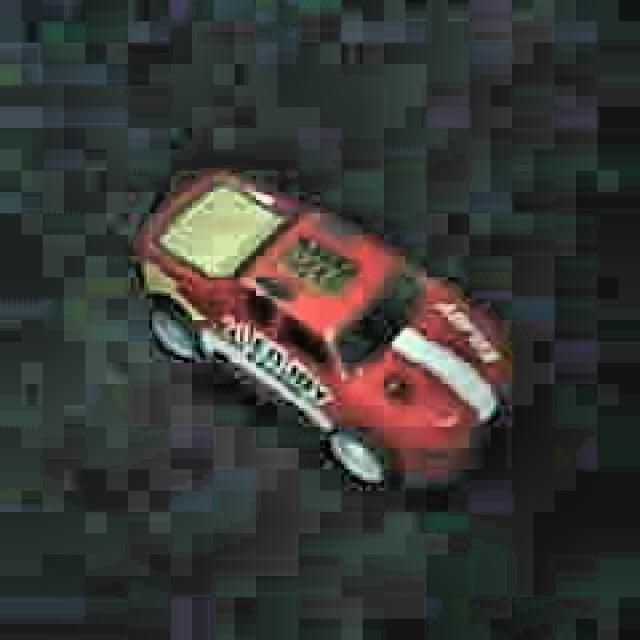car: (132, 165, 514, 502)
